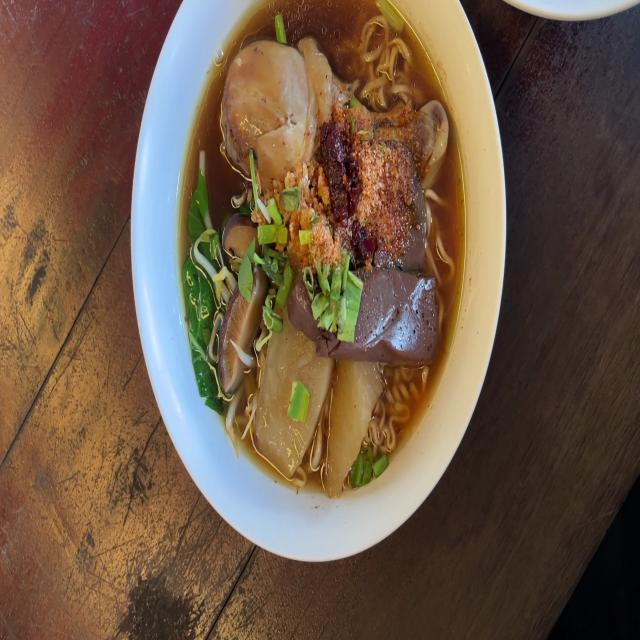noodle: (172, 0, 466, 506)
